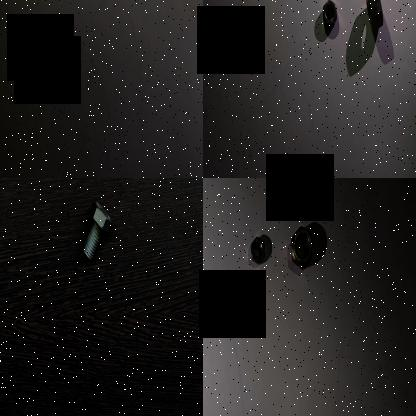Bolts: (80, 192, 112, 270)
NUTS: (286, 219, 316, 270), (363, 0, 383, 34), (248, 232, 266, 266), (318, 0, 339, 26)
